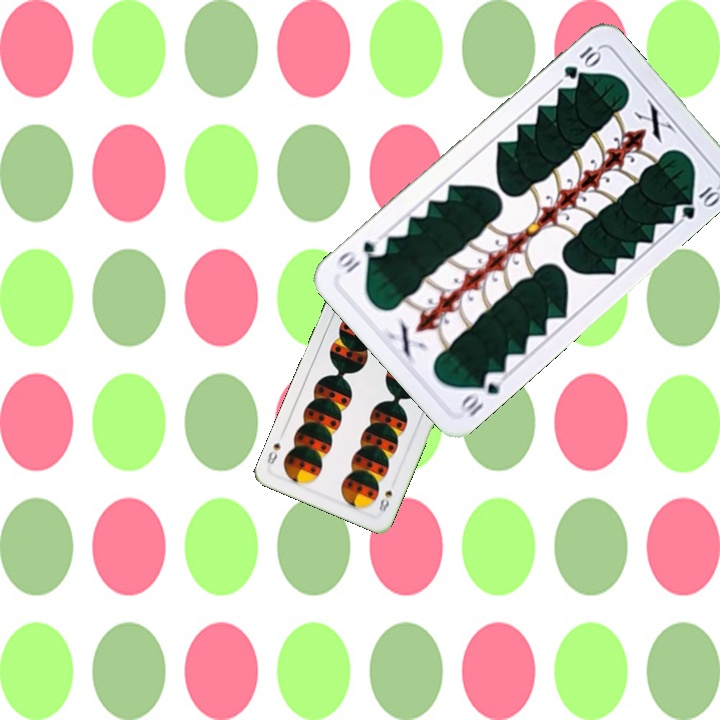G10: (455, 367, 508, 420), (559, 42, 604, 82)
S8: (375, 486, 395, 515)
